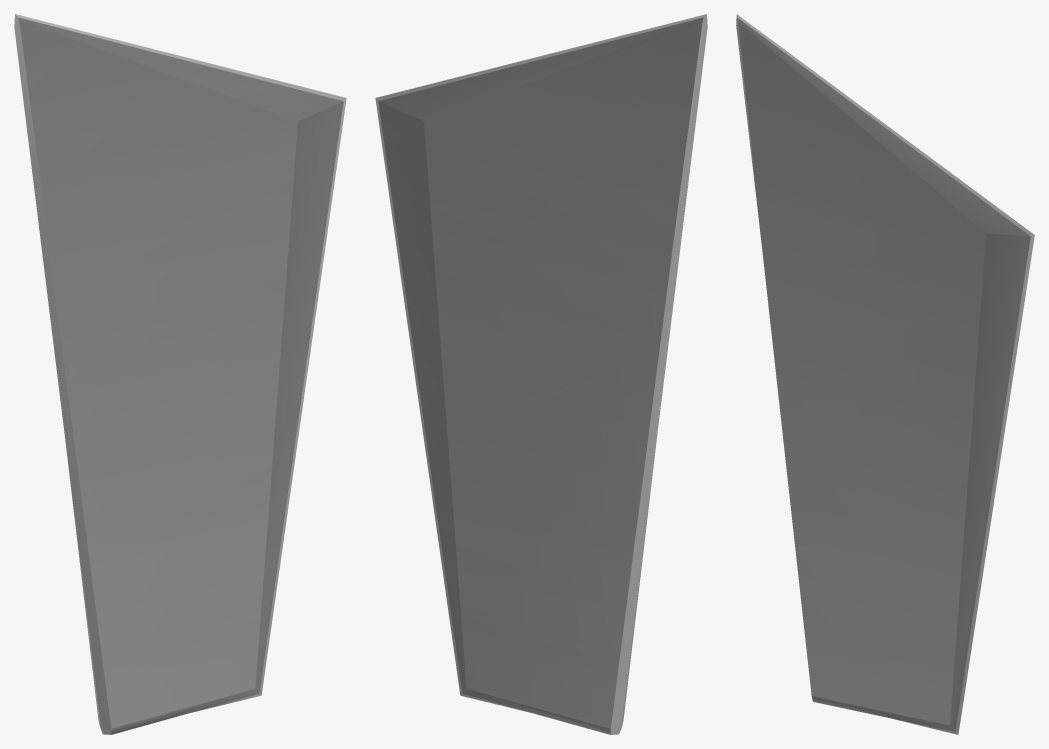
The model's file is stone_blade (5).glb.
The picture shows the model from 3 angles, left to right: view 1: azimuth 30°, elevation 25°; view 2: azimuth 150°, elevation 25°; view 3: azimuth 330°, elevation 25°; orthographic projection. The views are drawn at different scales.
Parts seen in each view (by area): view 1: stone_blade_unscratched.025; view 2: stone_blade_unscratched.025; view 3: stone_blade_unscratched.025.
Part boxes in pixels (x1,y1,x2,y2): stone_blade_unscratched.025: (14, 14, 346, 734); stone_blade_unscratched.025: (375, 14, 707, 734); stone_blade_unscratched.025: (736, 14, 1034, 734).
Size of the model in its own units: 5.55 by 11.85 by 0.374.
1 material, 1 textured.
